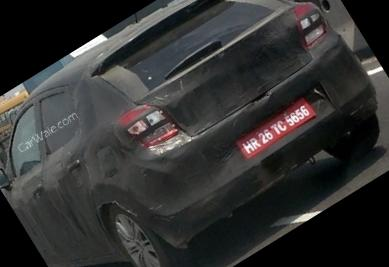plate: (225, 87, 324, 165)
